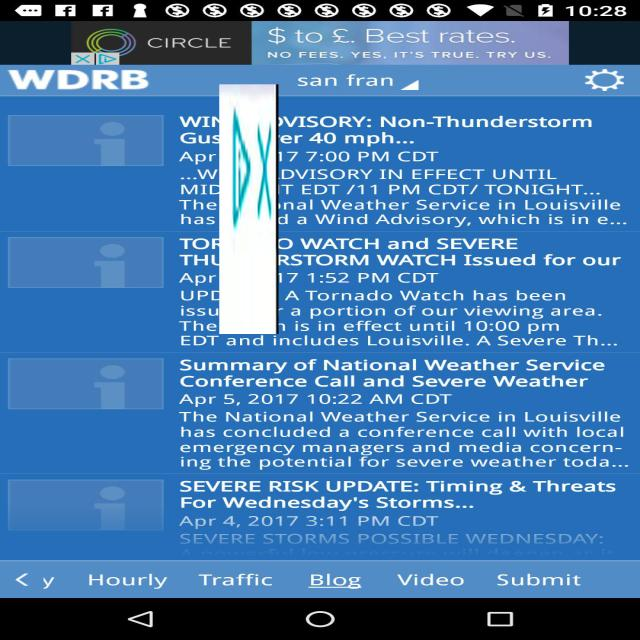sneaking: (219, 84, 279, 334)
